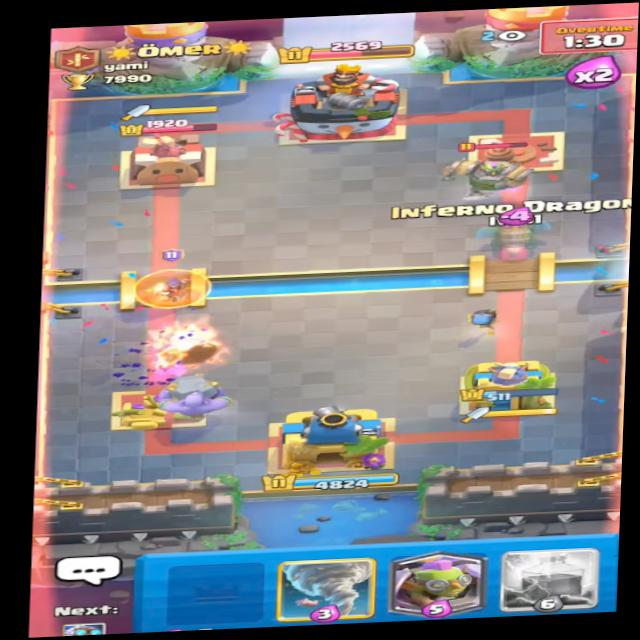Evowizard: (131, 244, 219, 310)
Goblinmachine: (435, 133, 542, 207)
